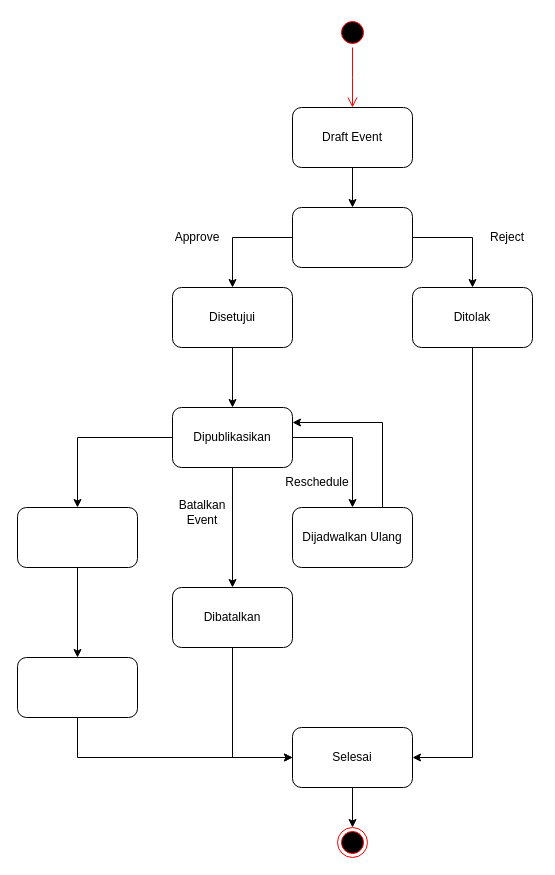
The diagram is 555 pixels wide and 875 high, and some of its shapes have lost their labels. The box of each missing label's shape, as (x1, y1, x2, y2) in pixels:
Event Berlangsung: (16, 656, 138, 718)
Menunggu Approval: (292, 206, 412, 268)
Penjualan Ticket: (16, 506, 138, 568)
